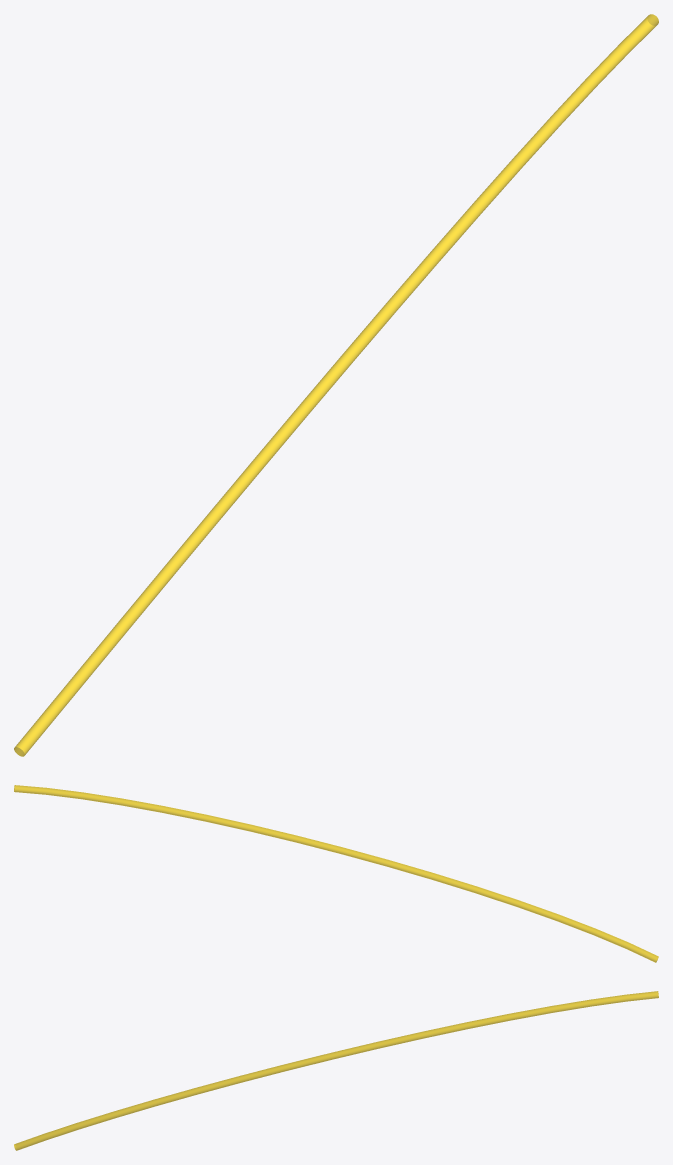
The model's file is Event_84804159_track_104.fbx.
3 views of the same model, one above another, from view 1: azimuth 30°, elevation 25°; view 2: azimuth 150°, elevation 25°; view 3: azimuth 330°, elevation 25° (orthographic). The views are drawn at different scales.
Parts seen in each view (by area): view 1: Model; view 2: Model; view 3: Model.
Part boxes in pixels (<box>): Model: <box>14,14,658,756</box>; Model: <box>14,785,658,962</box>; Model: <box>14,991,658,1150</box>.
Size of the model in its own units: 3.22 by 1.05 by 1.74.
